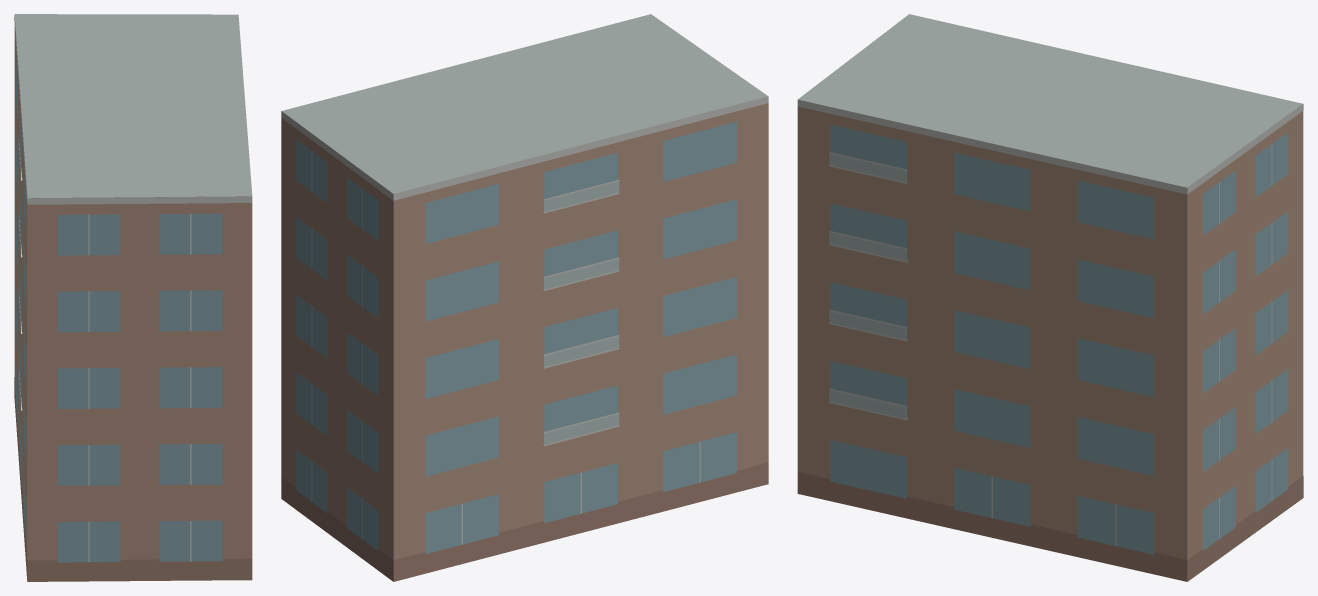
Rendered from survey-upis-32868925.glb.
The picture shows the model from 3 angles, left to right: view 1: azimuth 30°, elevation 25°; view 2: azimuth 150°, elevation 25°; view 3: azimuth 270°, elevation 25°; orthographic projection. The views are drawn at different scales.
Visible parts, largest first — view 1: survey-upis-32868925.tmp; view 2: survey-upis-32868925.tmp; view 3: survey-upis-32868925.tmp.
Part boxes in pixels (bbox=[...]): survey-upis-32868925.tmp: bbox=[14, 14, 252, 581]; survey-upis-32868925.tmp: bbox=[281, 14, 768, 581]; survey-upis-32868925.tmp: bbox=[797, 14, 1303, 581].
Size of the model in its own units: 13.34 by 14.1 by 16.41.
